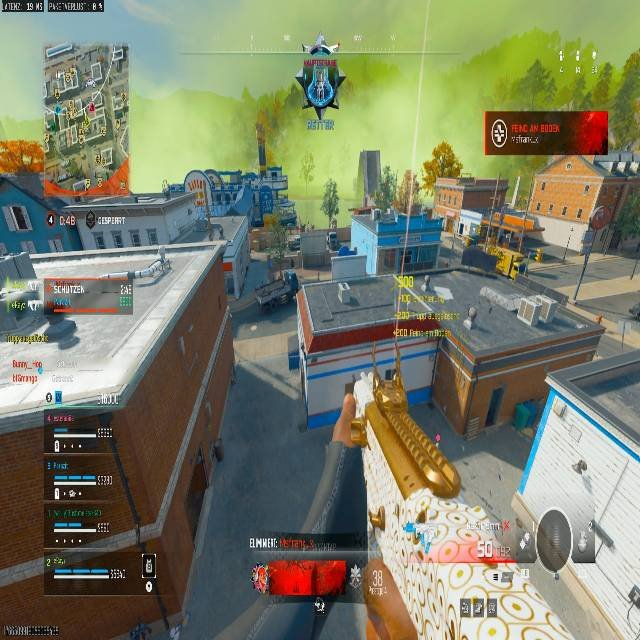player: (294, 35, 344, 121), (322, 180, 340, 225), (462, 304, 479, 331)
